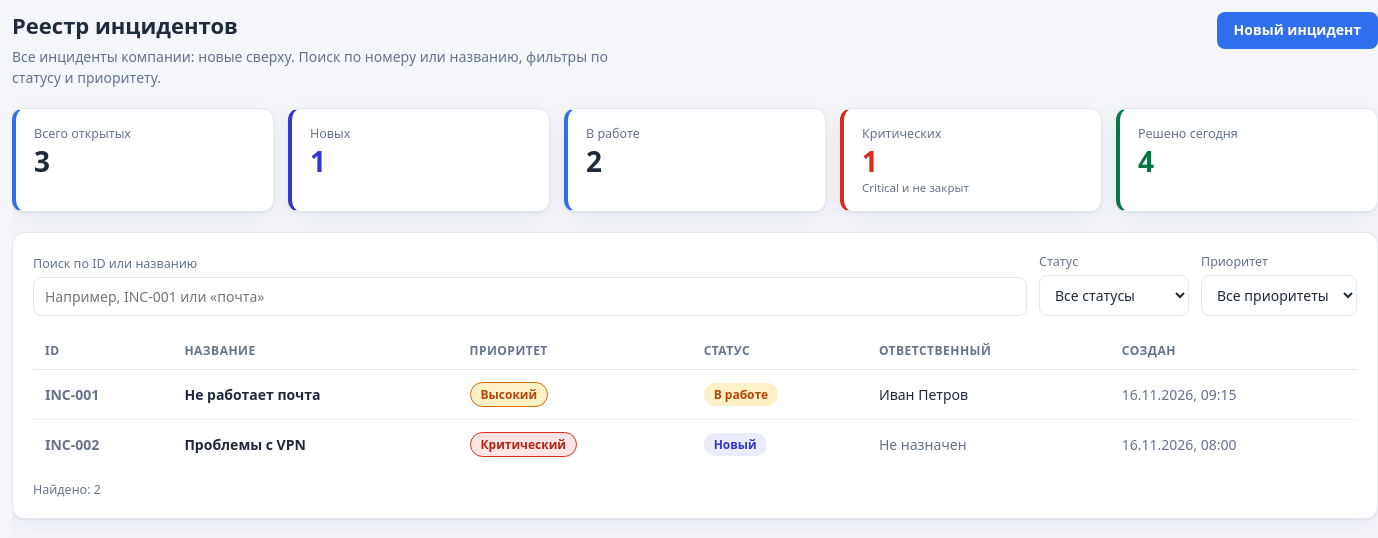
Test: клик по строке реестра открывает карточку инцидента
The image size is (1378, 538).
Click the link "Не работает почта" at (252, 395), box [184, 385, 320, 404]
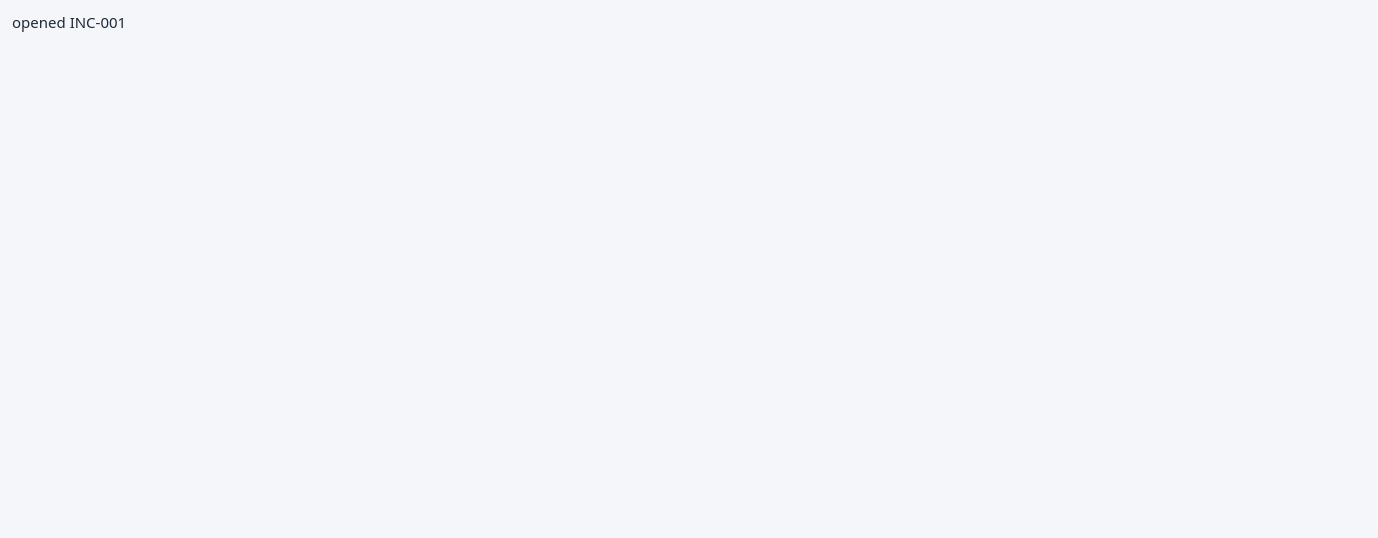
Expected: the text "opened INC-001" is shown, [12, 12, 126, 32]
